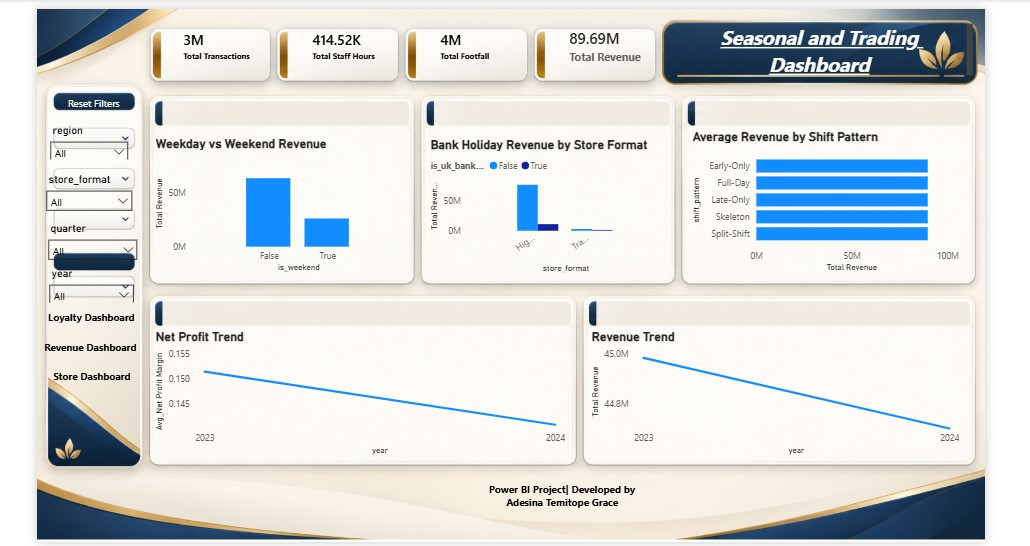

This screenshot's page, from the dashboard's own definition file:
{"tool":"powerbi","page":{"name":"Seasonal Dashboard","canvas":[1280,720],"ordinal":4},"visuals":[{"type":"lineChart","title":"Net Profit Trend","fields":{"Category":["dim_date.Date Hierarchy.year","dim_date.Date Hierarchy.quarter","dim_date.Date Hierarchy.month_name","dim_date.Date Hierarchy.full_date"],"Y":["Measure Table.Average Net Profit Margin"]},"box":[155.5,432.2,562.9,174.8],"z":0},{"type":"clusteredColumnChart","title":"Weekday vs Weekend Revenue","fields":{"Category":["dim_date.is_weekend"],"Y":["Measure Table.Total Revenue"]},"box":[155.5,172,345.5,188.6],"z":1000},{"type":"clusteredColumnChart","title":"Bank Holiday Revenue by Store Format","fields":{"Category":["dim_store.store_format"],"Series":["dim_date.is_uk_bank_holiday"],"Y":["Measure Table.Total Revenue"]},"box":[527.7,172.3,324.6,187.7],"z":2000},{"type":"lineChart","title":" Revenue Trend","fields":{"Category":["dim_date.Date Hierarchy.year","dim_date.Date Hierarchy.quarter","dim_date.Date Hierarchy.month_name","dim_date.Date Hierarchy.full_date"],"Y":["Measure Table.Total Revenue"]},"box":[744.6,432.2,506.5,174.8],"z":3000},{"type":"clusteredBarChart","title":"Average Revenue by Shift Pattern","fields":{"Category":["fact_daily_sales.shift_pattern"],"Y":["Measure Table.Total Revenue"]},"box":[880.9,162.4,370.2,198.2],"z":4000},{"type":"actionButton","title":"Loyalty Dashboard","box":[6.9,396.4,133.5,39.9],"z":5000},{"type":"actionButton","title":"Revenue Dashboard","box":[5.5,436.3,133.5,39.9],"z":6000},{"type":"actionButton","title":"Store Dashboard","box":[8.3,476.2,132.1,39.9],"z":7000},{"type":"textbox","box":[852,15.1,418.4,81.2],"z":8000},{"type":"textbox","box":[590.5,634.5,238.1,52.3],"z":9000},{"type":"slicer","fields":{"Values":["dim_date.year"]},"box":[6.9,344.1,133.5,52.3],"z":10000},{"type":"slicer","fields":{"Values":["dim_date.quarter"]},"box":[5.5,283.5,140.4,60.6],"z":11000},{"type":"slicer","fields":{"Values":["dim_store.store_format"]},"box":[2.8,217.5,136.3,66.1],"z":12000},{"type":"slicer","fields":{"Values":["dim_store.region"]},"box":[8.3,151.4,125.2,52.3],"z":13000},{"type":"actionButton","title":"Reset Filters","box":[15.1,111.5,123.9,30.3],"z":14000},{"type":"cardVisual","fields":{"Data":["Measure Table.Total Transactions"]},"box":[167.9,0,150,96.3],"z":15000},{"type":"cardVisual","fields":{"Data":["Measure Table.Total Staff Hours"]},"box":[341.3,0,150,96.3],"z":16000},{"type":"cardVisual","fields":{"Data":["Measure Table.Total Footfall"]},"box":[514.3,0,150,95.7],"z":17000},{"type":"cardVisual","fields":{"Data":["Measure Table.Total Revenue"]},"box":[689.5,0,162.4,96.3],"z":18000}]}

Visuals, with their boxes on the page's 1280x720 design canvas (x1, y1, x2, y2). These are canvas units, not pixel positions in the 1030x546 screenshot, which may show the page scaled, cropped or inside an application window:
"Net Profit Trend" lineChart: pyautogui.locateOnScreen(156, 432, 718, 607)
"Weekday vs Weekend Revenue" clusteredColumnChart: pyautogui.locateOnScreen(156, 172, 501, 361)
"Bank Holiday Revenue by Store Format" clusteredColumnChart: pyautogui.locateOnScreen(528, 172, 852, 360)
" Revenue Trend" lineChart: pyautogui.locateOnScreen(745, 432, 1251, 607)
"Average Revenue by Shift Pattern" clusteredBarChart: pyautogui.locateOnScreen(881, 162, 1251, 361)
"Loyalty Dashboard" actionButton: pyautogui.locateOnScreen(7, 396, 140, 436)
"Revenue Dashboard" actionButton: pyautogui.locateOnScreen(6, 436, 139, 476)
"Store Dashboard" actionButton: pyautogui.locateOnScreen(8, 476, 140, 516)
textbox: pyautogui.locateOnScreen(852, 15, 1270, 96)
textbox: pyautogui.locateOnScreen(590, 634, 829, 687)
slicer - dim_date.year: pyautogui.locateOnScreen(7, 344, 140, 396)
slicer - dim_date.quarter: pyautogui.locateOnScreen(6, 284, 146, 344)
slicer - dim_store.store_format: pyautogui.locateOnScreen(3, 218, 139, 284)
slicer - dim_store.region: pyautogui.locateOnScreen(8, 151, 134, 204)
"Reset Filters" actionButton: pyautogui.locateOnScreen(15, 112, 139, 142)
cardVisual - Measure Table.Total Transactions: pyautogui.locateOnScreen(168, 0, 318, 96)
cardVisual - Measure Table.Total Staff Hours: pyautogui.locateOnScreen(341, 0, 491, 96)
cardVisual - Measure Table.Total Footfall: pyautogui.locateOnScreen(514, 0, 664, 96)
cardVisual - Measure Table.Total Revenue: pyautogui.locateOnScreen(690, 0, 852, 96)
